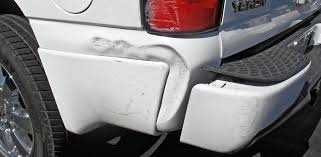Dent: (88, 35, 194, 77)
